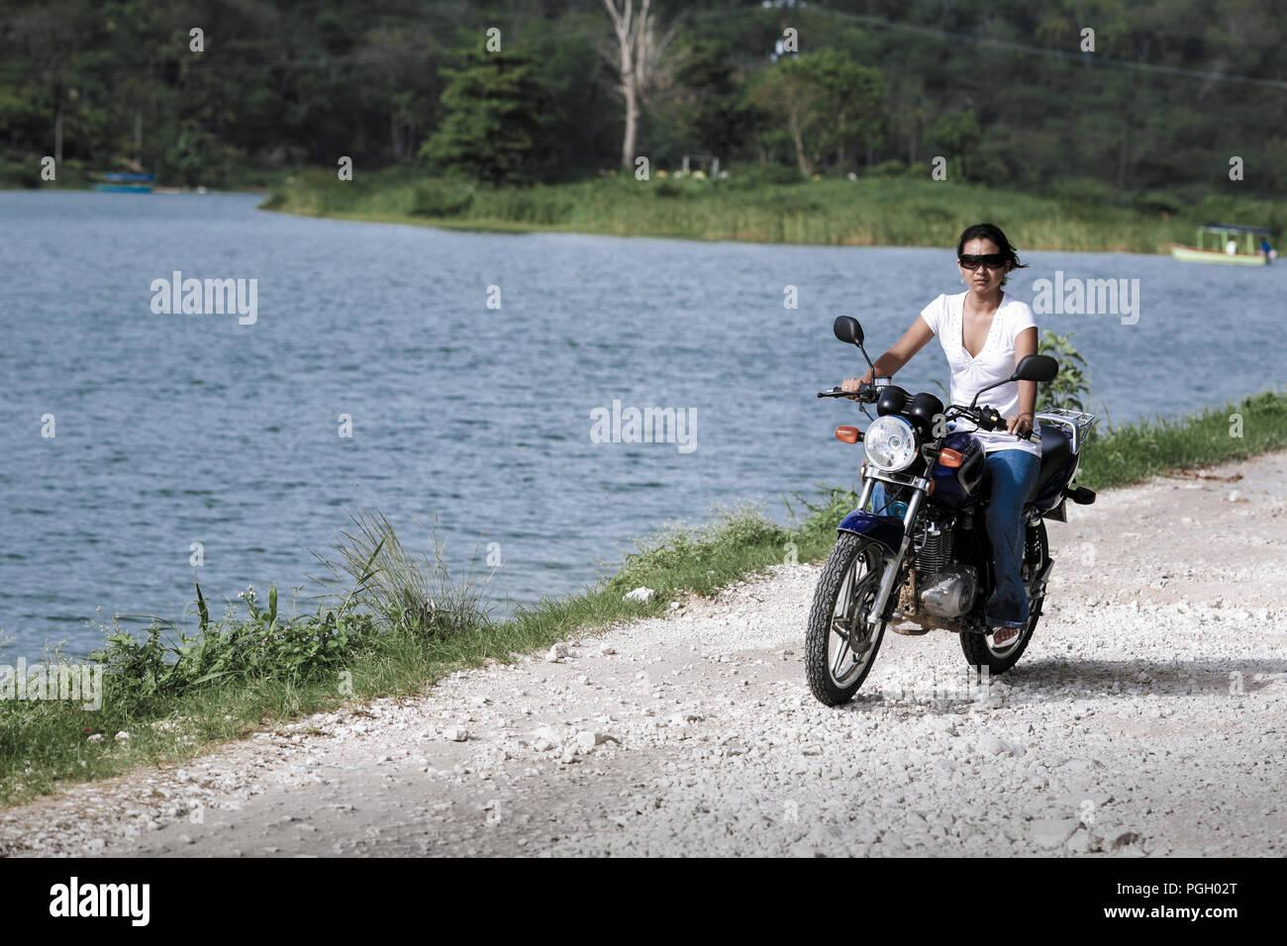nohelmet: (957, 221, 1013, 305)
